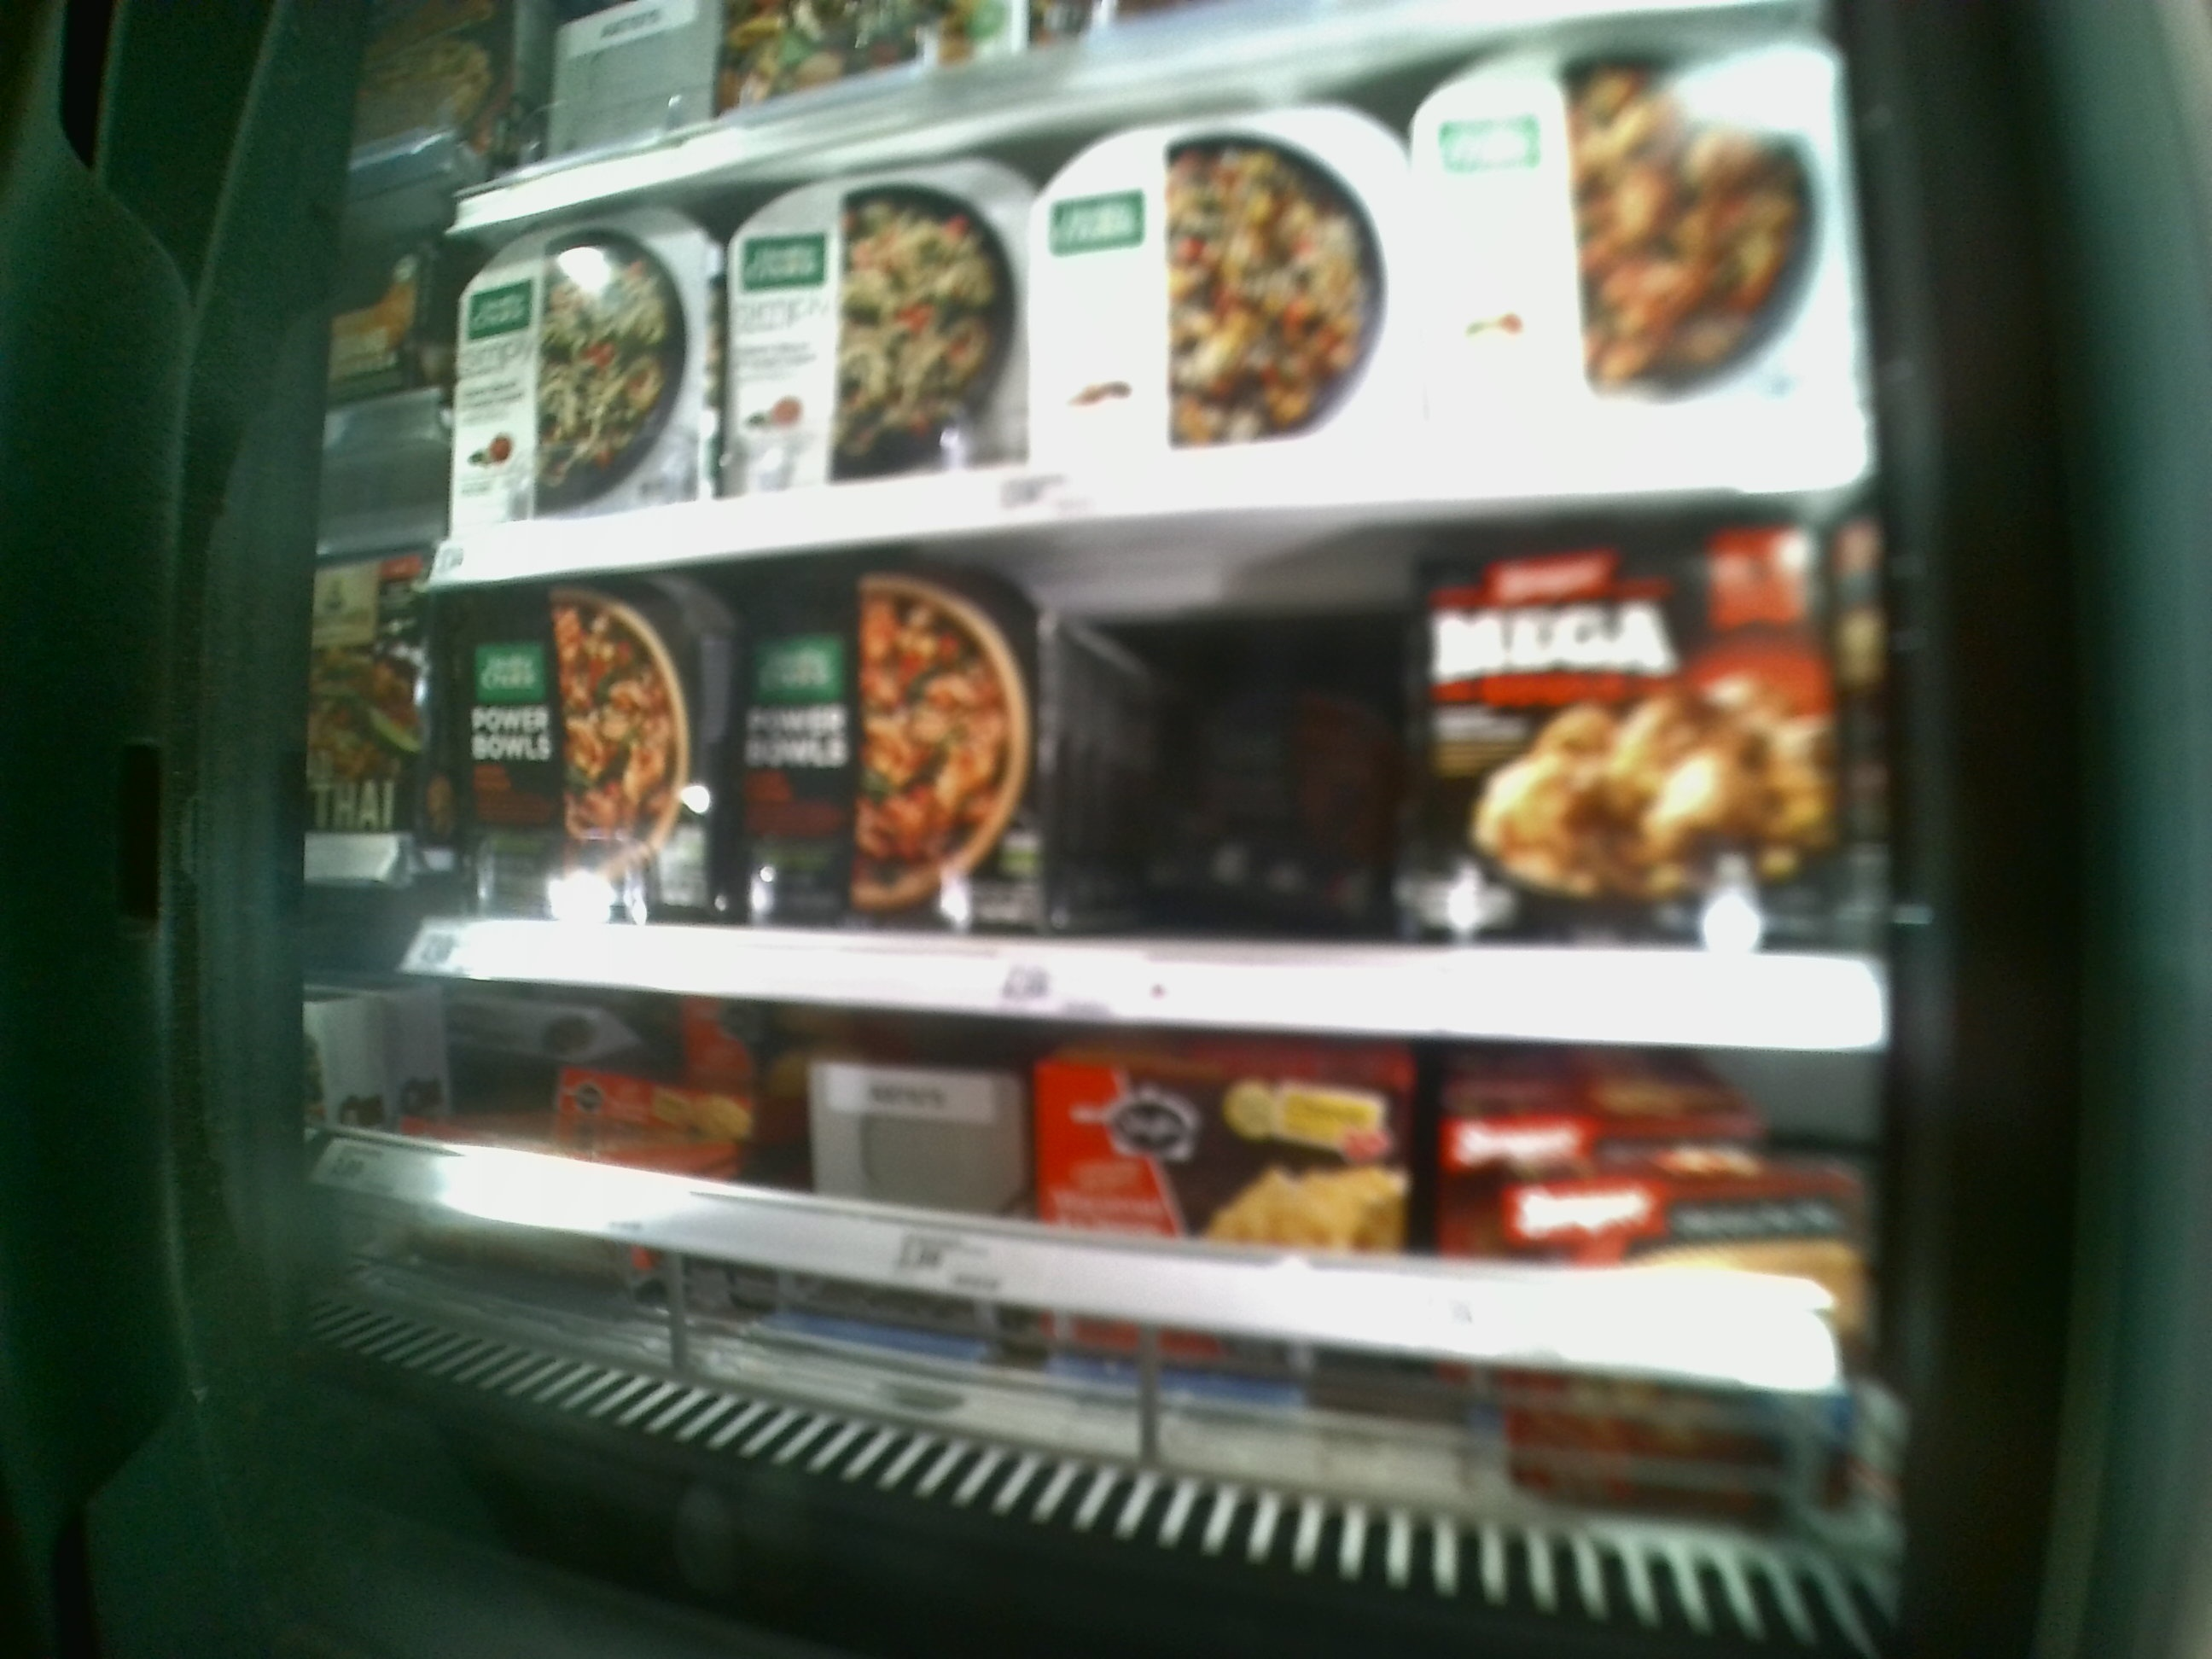shelf: (387, 978, 1895, 1567), (420, 488, 1879, 1053)
